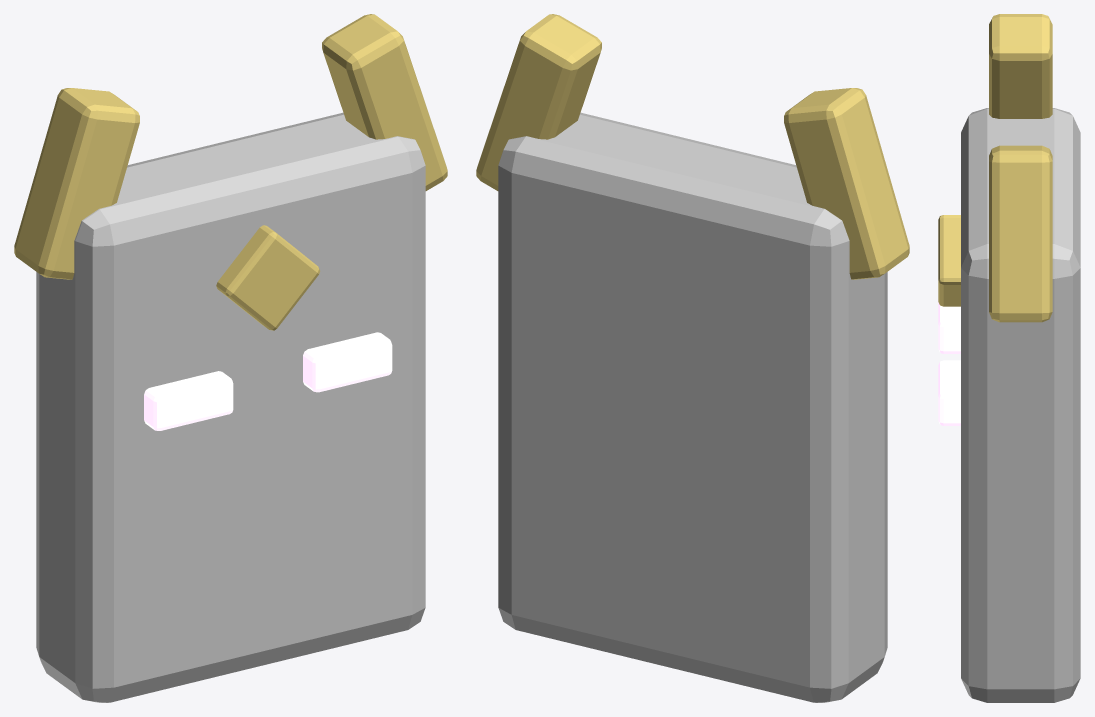
The model's file is SM_Art_RunicMask.fbx.
3 renders of one model, left to right at view 1: azimuth 30°, elevation 25°; view 2: azimuth 150°, elevation 25°; view 3: azimuth 270°, elevation 25°, orthographic. The views are drawn at different scales.
Parts seen in each view (by area): view 1: MaskPlate, HornR, HornL, Sigil, EyeL, EyeR; view 2: MaskPlate, HornR, HornL; view 3: MaskPlate, HornL, HornR, Sigil, EyeL, EyeR.
Boxes of the visible parts, <box> form: MaskPlate: <box>36,112,425,702</box>; HornR: <box>14,88,139,279</box>; HornL: <box>322,14,447,190</box>; Sigil: <box>216,225,320,330</box>; EyeL: <box>303,332,392,392</box>; EyeR: <box>144,371,233,430</box>; MaskPlate: <box>498,112,887,702</box>; HornR: <box>784,88,909,279</box>; HornL: <box>476,14,601,190</box>; MaskPlate: <box>961,108,1080,702</box>; HornL: <box>989,145,1052,322</box>; HornR: <box>989,14,1052,118</box>; Sigil: <box>938,215,960,306</box>; EyeL: <box>938,360,960,425</box>; EyeR: <box>938,302,960,353</box>.
Bounding box in the file's own units: 0.1644 × 0.2284 × 0.0535.
